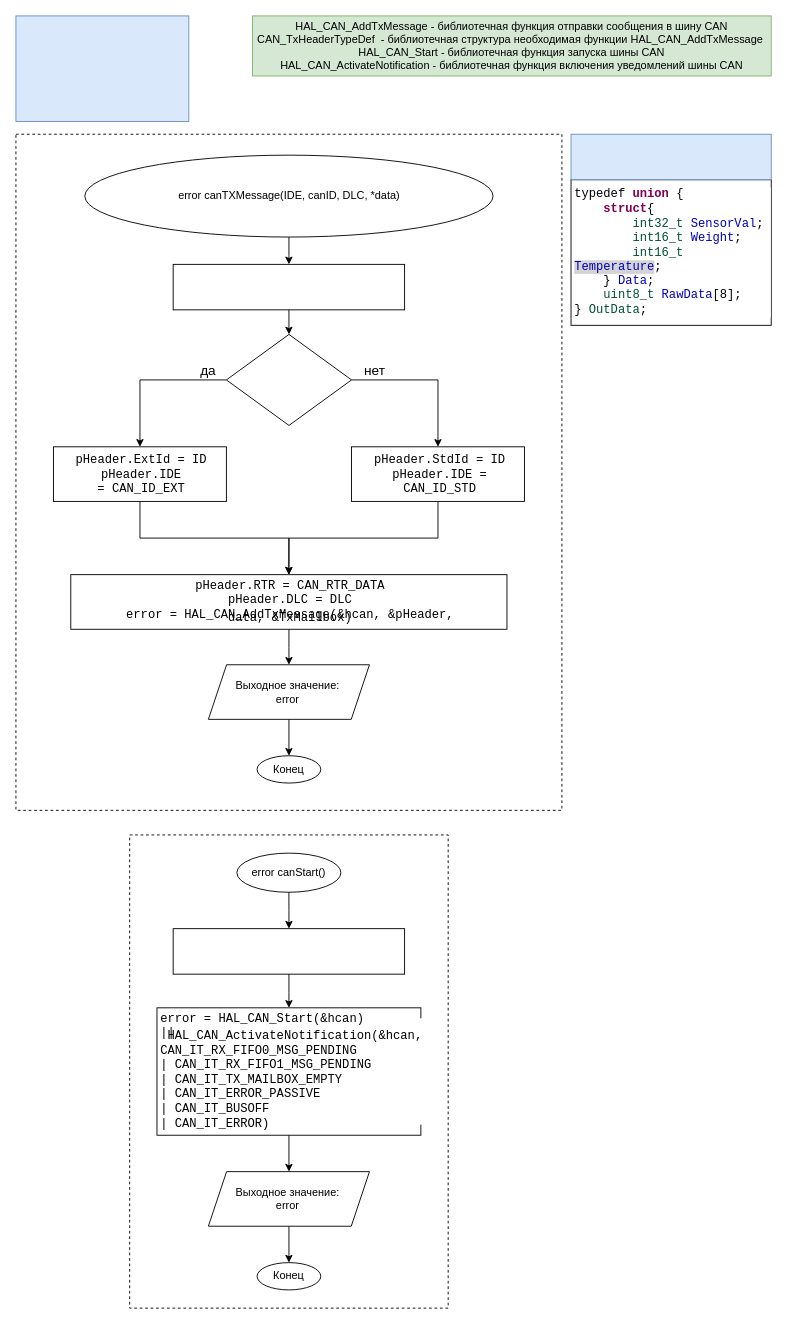
The diagram is 787 pixels wide and 1324 high, and some of its shapes have lost their labels. Here are the shapes that lost their labels. From the top down, the centre of each, then its label:
the point at 102,68: Функция отправки данных в шину CAN
the point at 670,156: Объединение данных с датчика
the point at 288,286: CAN_TxHeaderTypeDef pHeader = 0; TxMailbox = 0 error = 0
the point at 288,379: IDE == 0
the point at 288,951: error = 0
